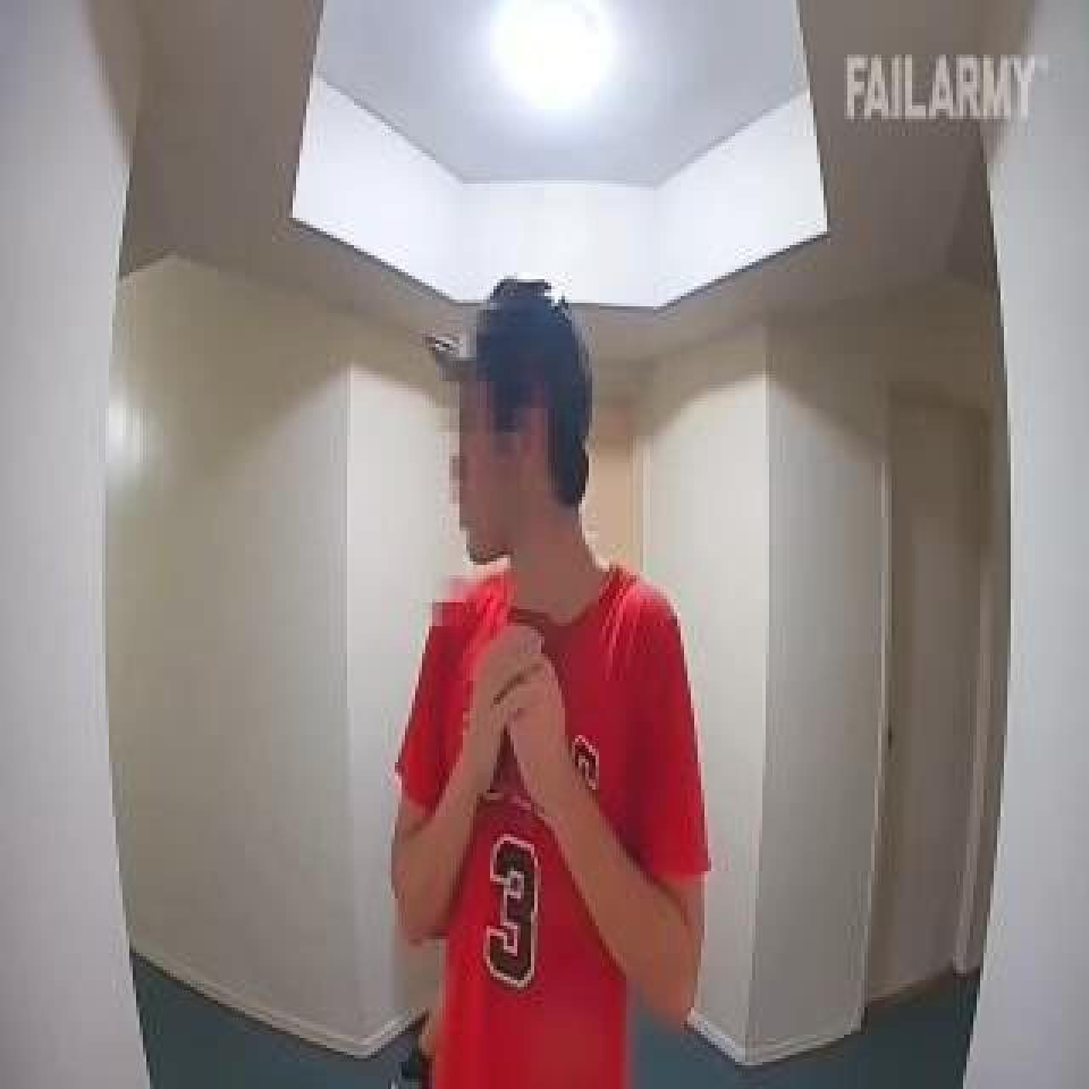NO_Safety_Vest: (430, 567, 681, 1050)
Person: (386, 257, 723, 1089)
